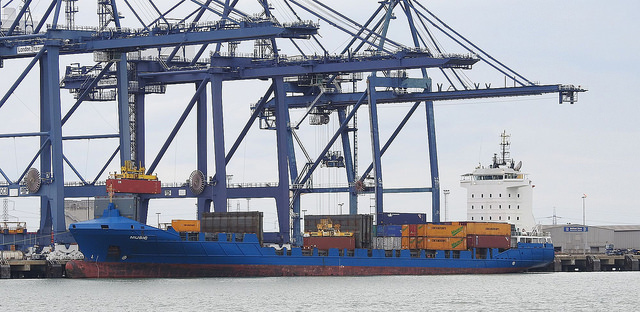container_ship: (67, 140, 560, 275)
